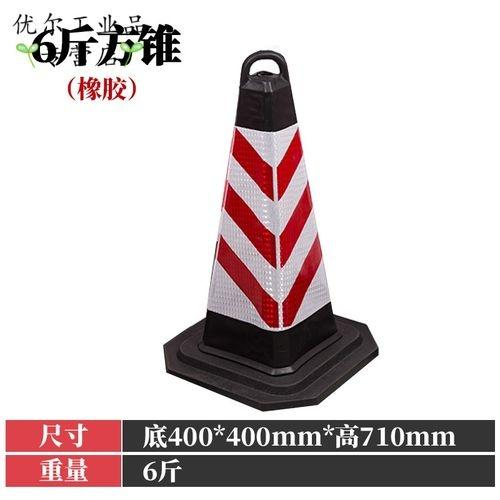cone_barrel: (166, 56, 375, 399)
